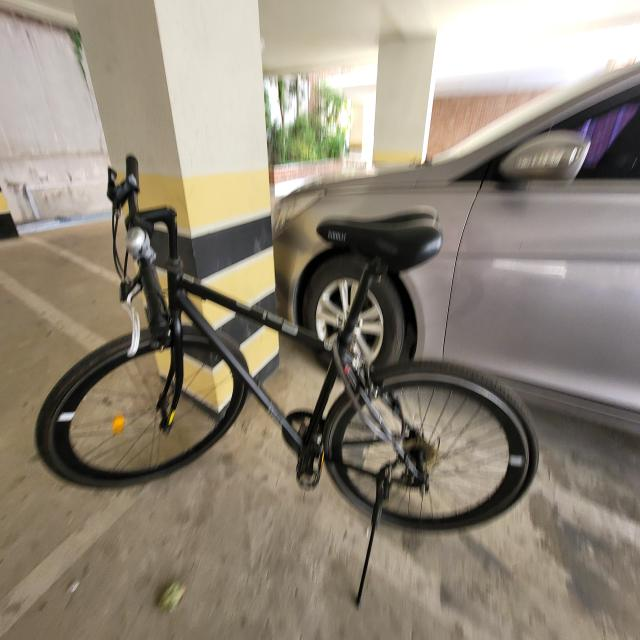bicycle: (32, 148, 540, 559)
